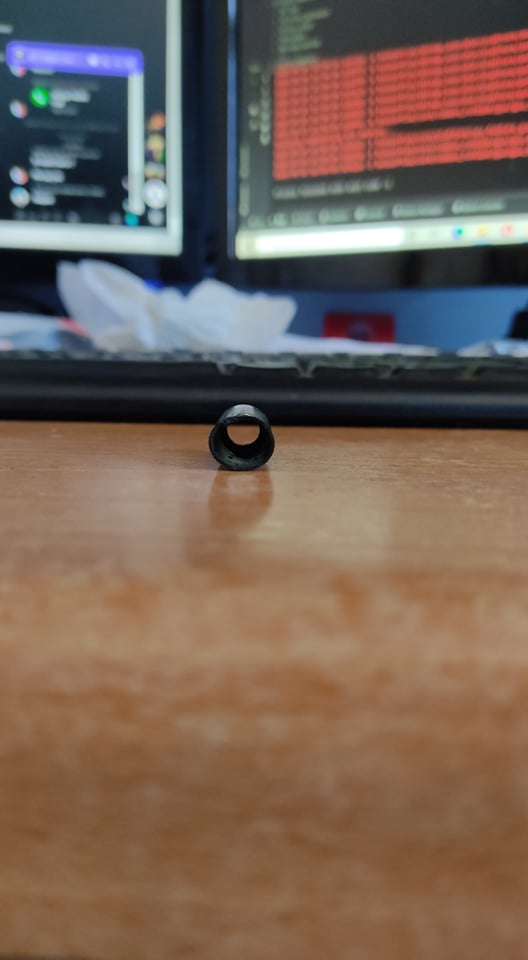black_bucking: (175, 385, 302, 485)
